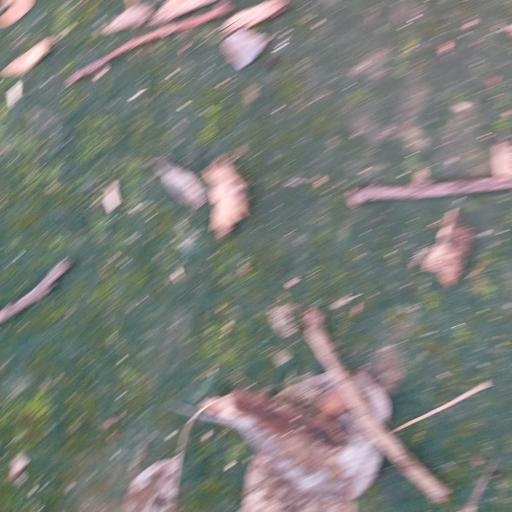algae: (8, 2, 512, 512)
